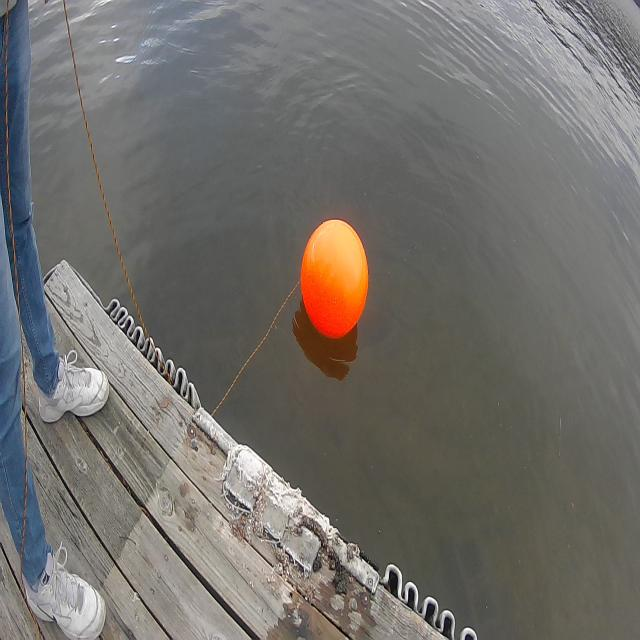Buoy: (296, 211, 374, 345)
